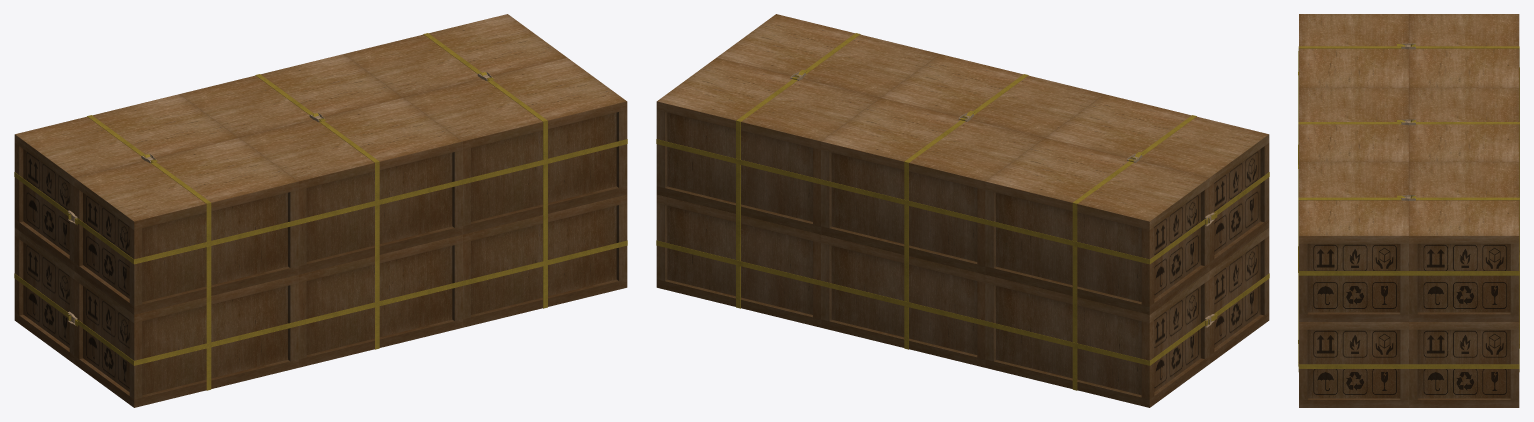
The model's file is Crates_Wooden_01_Set(3x2x2).fbx.
3 views of the same model, side by side, from view 1: azimuth 30°, elevation 25°; view 2: azimuth 150°, elevation 25°; view 3: azimuth 270°, elevation 25° (orthographic). The views are drawn at different scales.
Parts seen in each view (by area): view 1: WoodenCrates-1_Set(3x2x2); view 2: WoodenCrates-1_Set(3x2x2); view 3: WoodenCrates-1_Set(3x2x2).
Boxes of the visible parts, x1,y1,x2,y2 form: WoodenCrates-1_Set(3x2x2): (14,14,627,407); WoodenCrates-1_Set(3x2x2): (656,14,1269,407); WoodenCrates-1_Set(3x2x2): (1298,14,1519,407).
Size of the model in its own units: 544 by 199 by 228.
